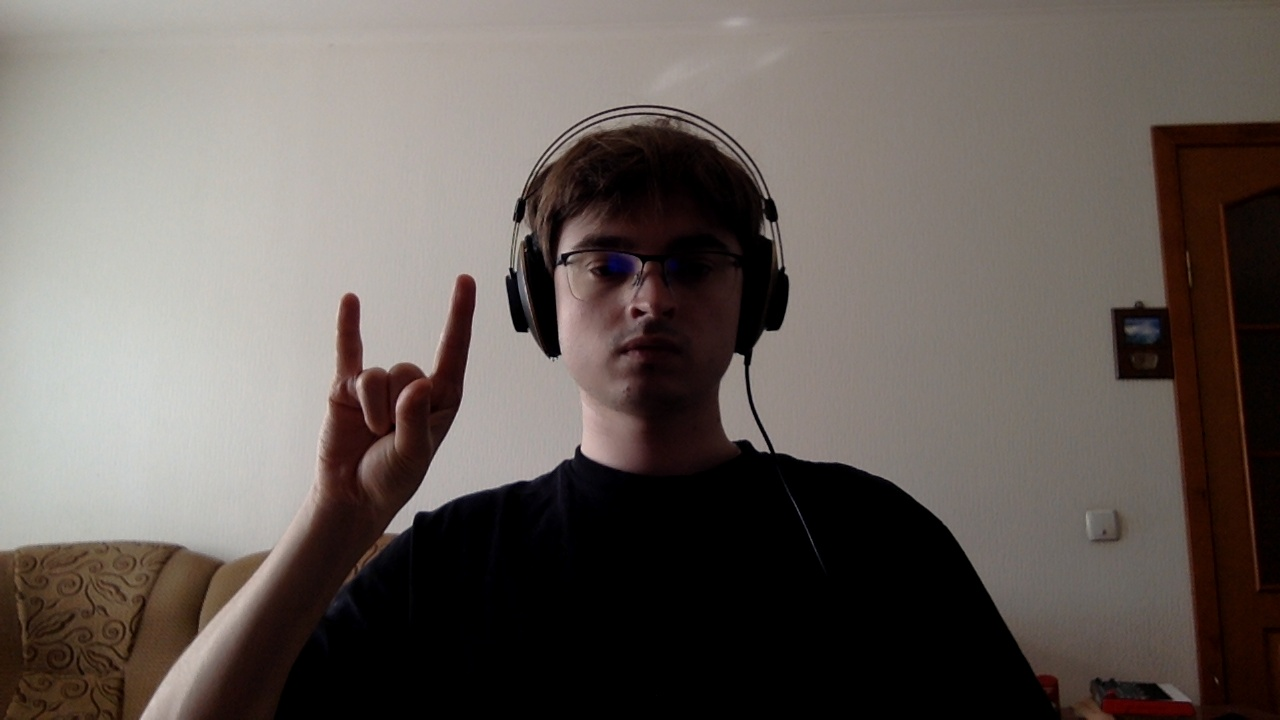i love you: (290, 261, 500, 537)
